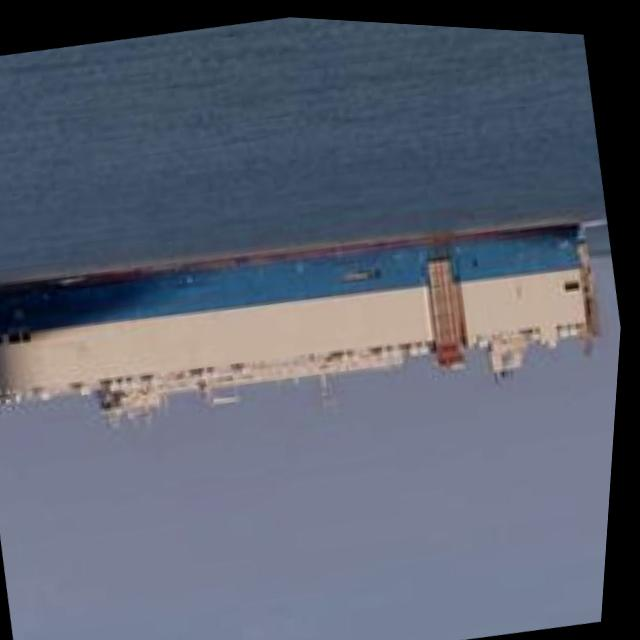ship2: (0, 214, 600, 430)
